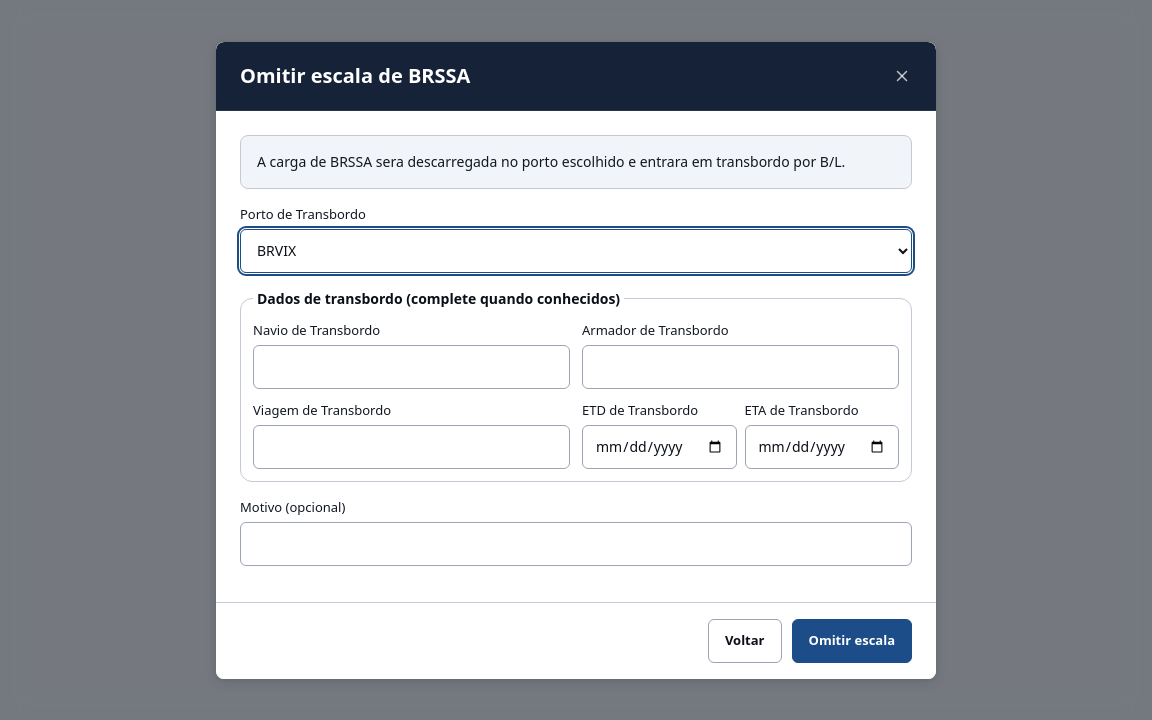
Test: OmitEscalaModal - recusa do banco › falha técnica não expõe o diagnóstico
The image size is (1152, 720).
Click the button "Omitir escala" at (852, 640), box 792,618 -> 912,662
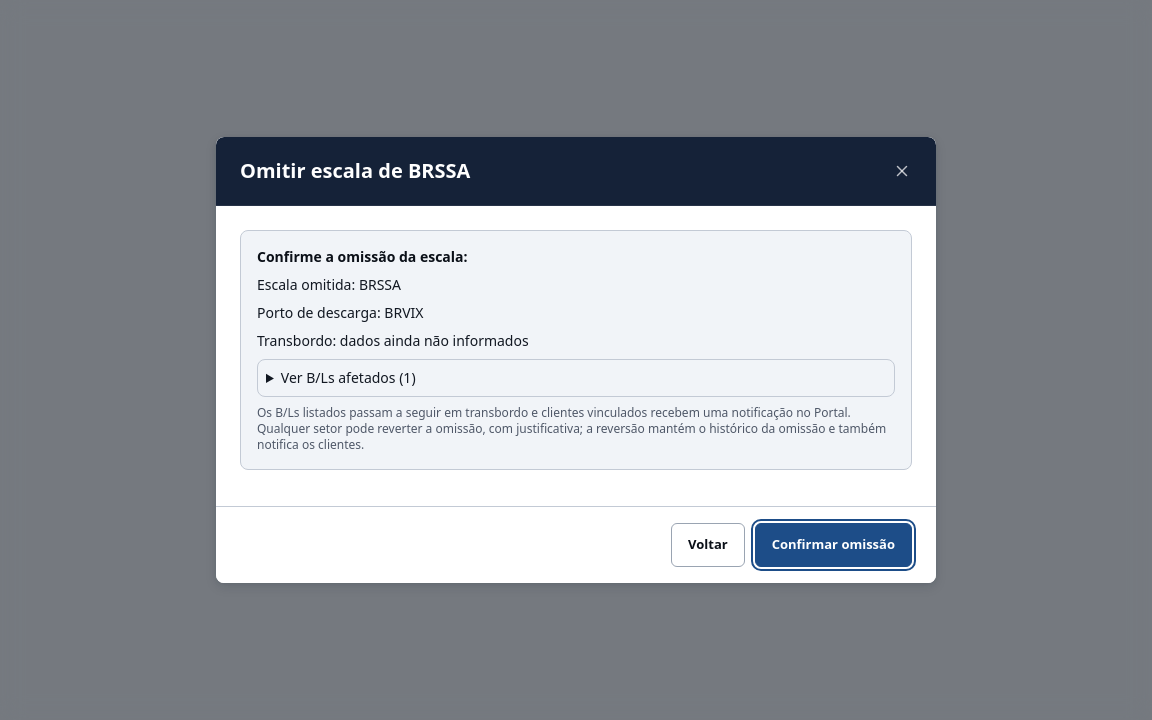
Click the button "Confirmar omissão" at (833, 545), box 755,523 -> 912,567
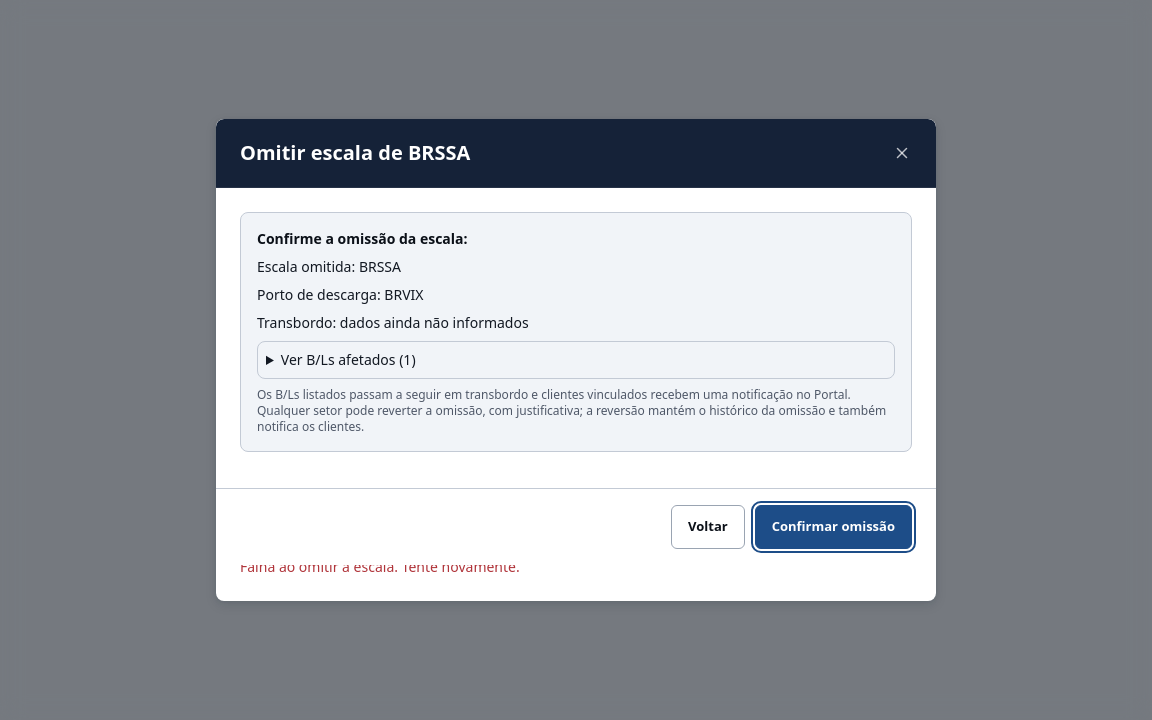
Now the message reads "Falha ao omitir a escala. Tente novamente.", box 240,557 -> 520,576
